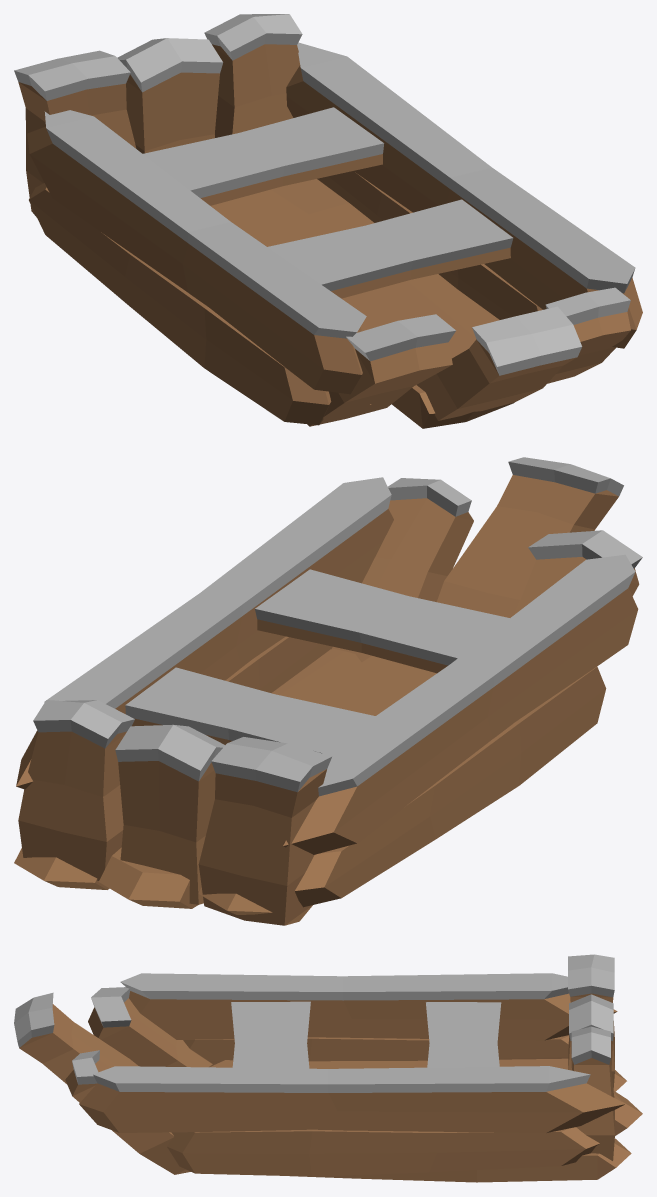
File: Boat_2 Winter.fbx
3 renders of one model, top to bottom at view 1: azimuth 30°, elevation 25°; view 2: azimuth 150°, elevation 25°; view 3: azimuth 270°, elevation 25°, orthographic. The views are drawn at different scales.
Parts seen in each view (by area): view 1: Boat2Winter_mesh; view 2: Boat2Winter_mesh; view 3: Boat2Winter_mesh.
Part boxes in pixels (x1,y1,x2,y2): Boat2Winter_mesh: (14, 14, 642, 428); Boat2Winter_mesh: (14, 457, 642, 925); Boat2Winter_mesh: (14, 954, 642, 1182).
Size of the model in its own units: 131 by 71.44 by 313.
